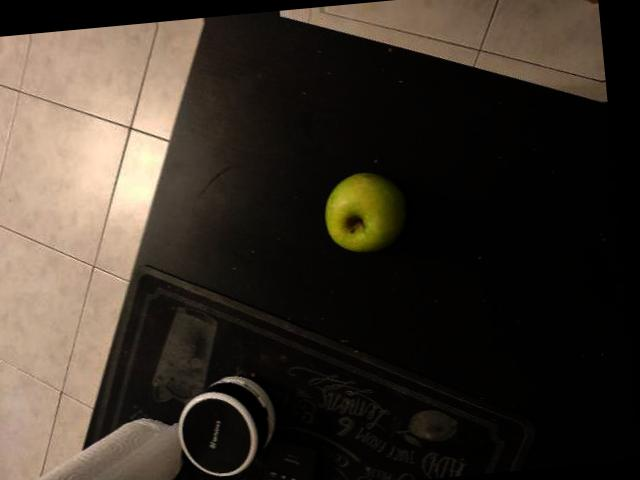apple: (114, 47, 235, 177)
